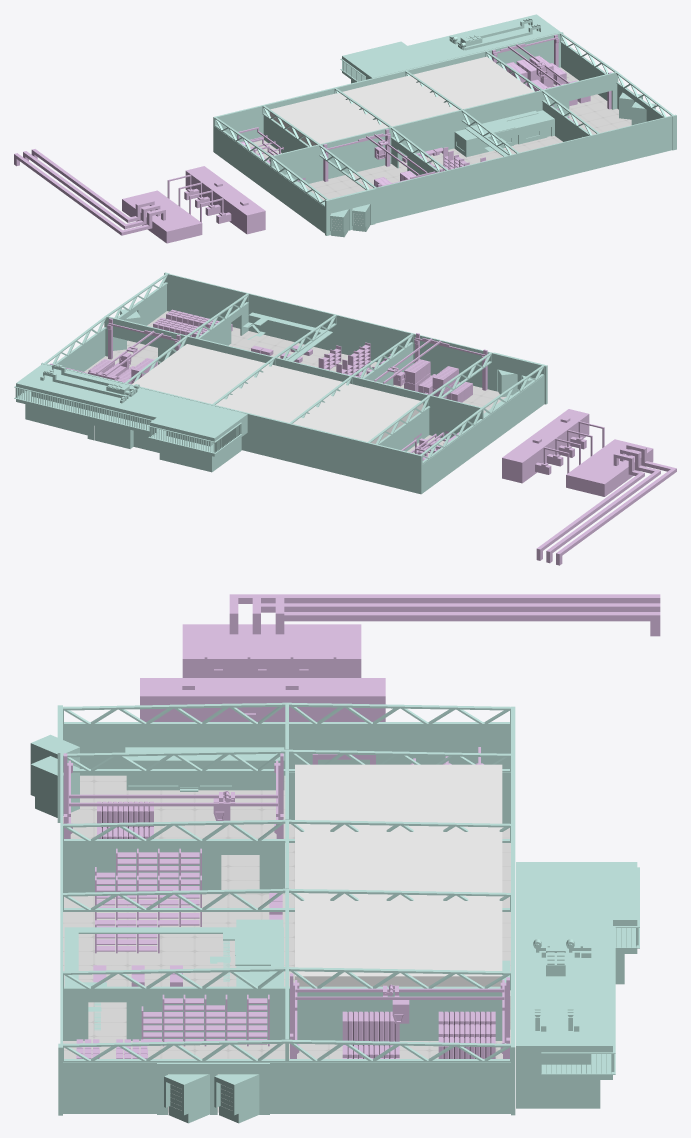
The model's file is factory.glb.
The picture shows the model from 3 angles, top to bottom: view 1: azimuth 30°, elevation 25°; view 2: azimuth 150°, elevation 25°; view 3: azimuth 270°, elevation 25°; orthographic projection. The views are drawn at different scales.
Visible parts, largest first — view 1: walls, shelves, detection_production, floor; view 2: walls, shelves, detection_production, floor; view 3: walls, shelves, detection_production, floor.
Part boxes in pixels (left/top/right/bottom): walls: left=213, top=14, right=676, bottom=237; shelves: left=14, top=34, right=611, bottom=243; detection_production: left=270, top=56, right=534, bottom=145; floor: left=248, top=67, right=631, bottom=228; walls: left=14, top=272, right=547, bottom=494; shelves: left=50, top=309, right=676, bottom=565; detection_production: left=132, top=344, right=423, bottom=443; floor: left=84, top=311, right=506, bottom=456; walls: left=30, top=702, right=639, bottom=1123; shelves: left=63, top=594, right=660, bottom=1058; detection_production: left=295, top=764, right=502, bottom=986; floor: left=63, top=775, right=510, bottom=1112.
Size of the model in its own units: 17.99 by 1.41 by 9.39.
5 materials, 1 textured.
